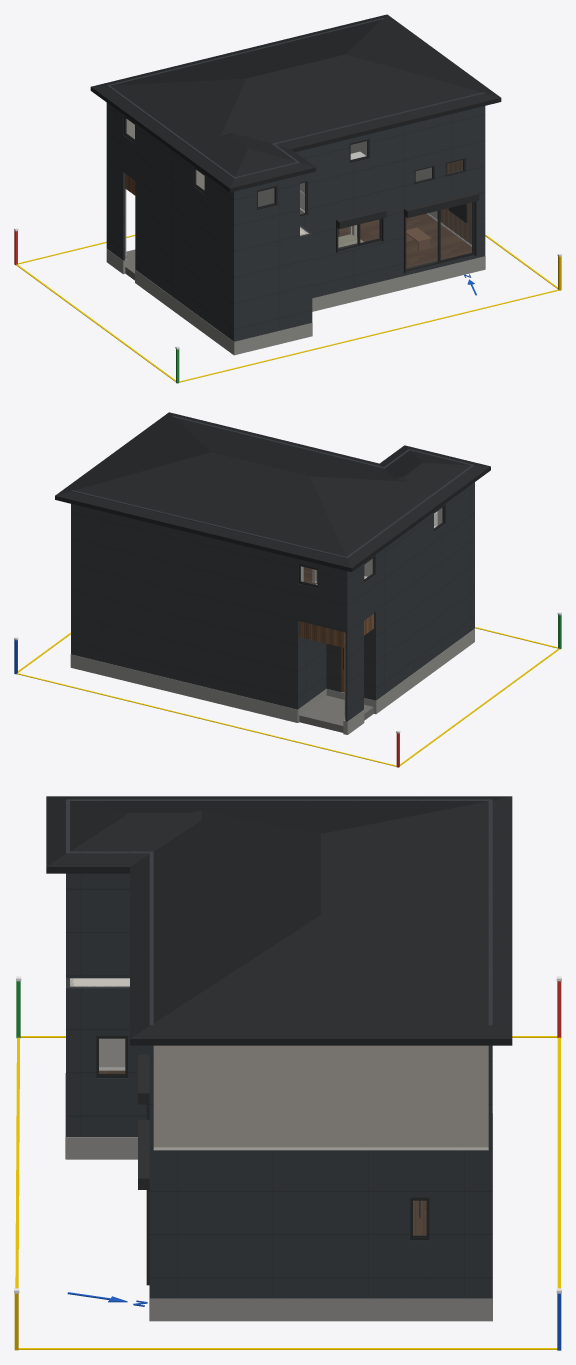
3 renders of one model, top to bottom at view 1: azimuth 30°, elevation 25°; view 2: azimuth 150°, elevation 25°; view 3: azimuth 270°, elevation 25°, orthographic. The views are drawn at different scales.
Visible parts, largest first — view 1: siding, roof, found, glass, floor, frame, shutter, lotline, wall, accent; view 2: siding, roof, found, lotline, tile, woodceil, wall, glass, frame; view 3: roof, siding, wall, found, lotline, shutter, baseboard, glass, frame.
Part boxes in pixels (x1,y1,x2,y2): siding: (106,18,485,341); roof: (90,14,501,192); found: (106,249,485,355); glass: (126,119,471,268); floor: (338,214,471,267); frame: (124,116,474,271); shutter: (336,191,479,273); lotline: (16,234,559,382); wall: (125,119,437,255); accent: (352,160,471,244); siding: (71,416,474,721); roof: (55,412,490,572); found: (70,628,474,734); lotline: (17,627,559,766); tile: (299,695,373,732); woodceil: (299,613,373,647); wall: (301,508,442,716); glass: (301,508,442,584); frame: (298,505,444,669); roof: (46,796,512,1045); siding: (66,799,492,1298); wall: (70,978,488,1147); found: (65,1073,492,1321); lotline: (15,1036,560,1349); shutter: (138,1054,149,1285); baseboard: (99,1067,488,1150); glass: (99,1039,425,1234); frame: (96,1036,429,1240).
Bounding box in the file's own units: 14.14 × 7.01 × 10.42.
Materials: 35 (6 with a texture image).
